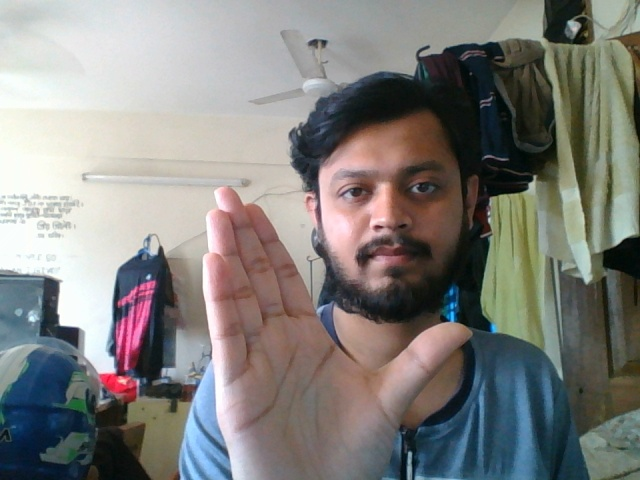a: (197, 180, 478, 480)
